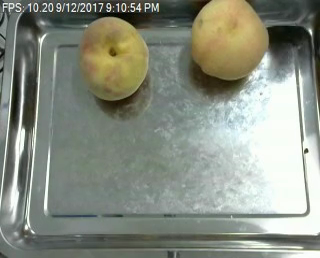Peach: (190, 0, 267, 80), (79, 16, 149, 100)
